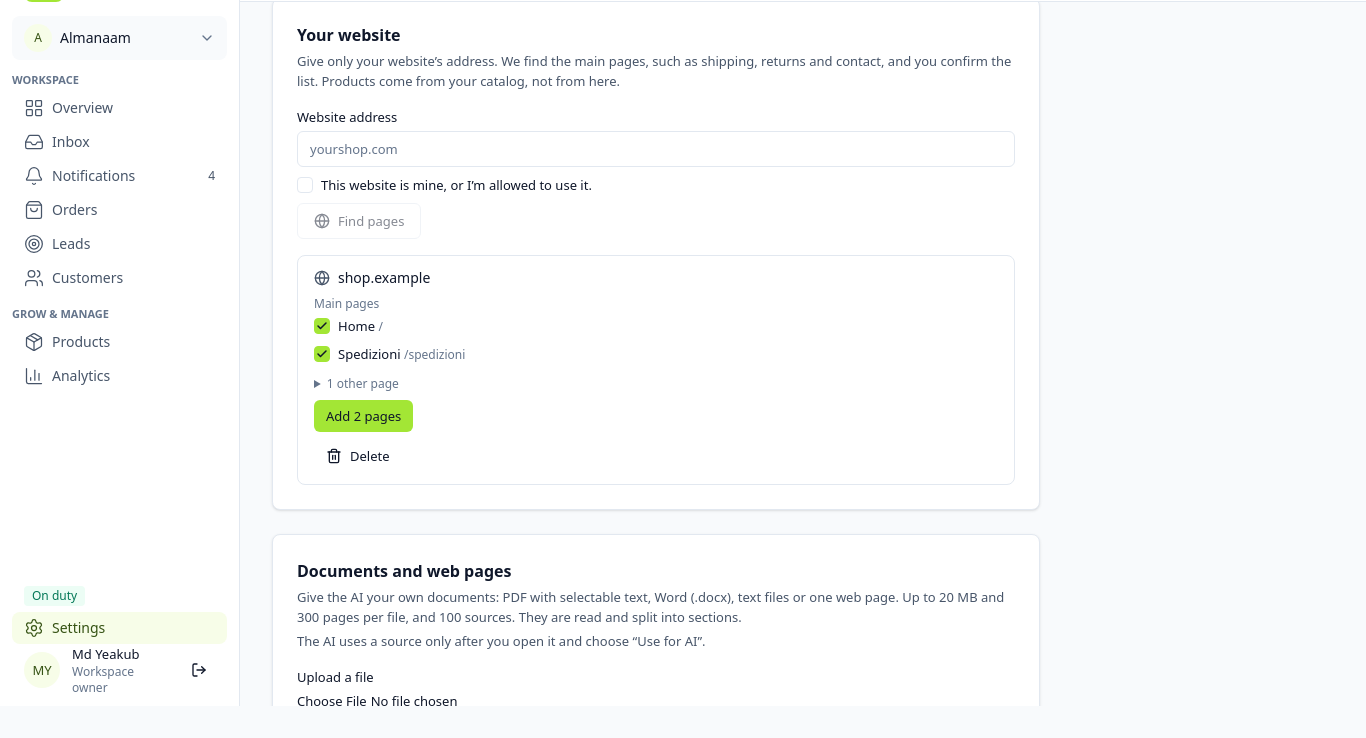
Settings → Shop knowledge → Website › shows the main pages ticked and adds what is ticked; other pages stay unticked
This screenshot has width=1366, height=738.
(page scrolled)
Expected: the checkbox named "Home" next to "Home" is checked, 314,318 -> 330,334
Click the checkbox named "Spedizioni" in the row of "/spedizioni" at [322, 354], box 314,346 -> 330,362
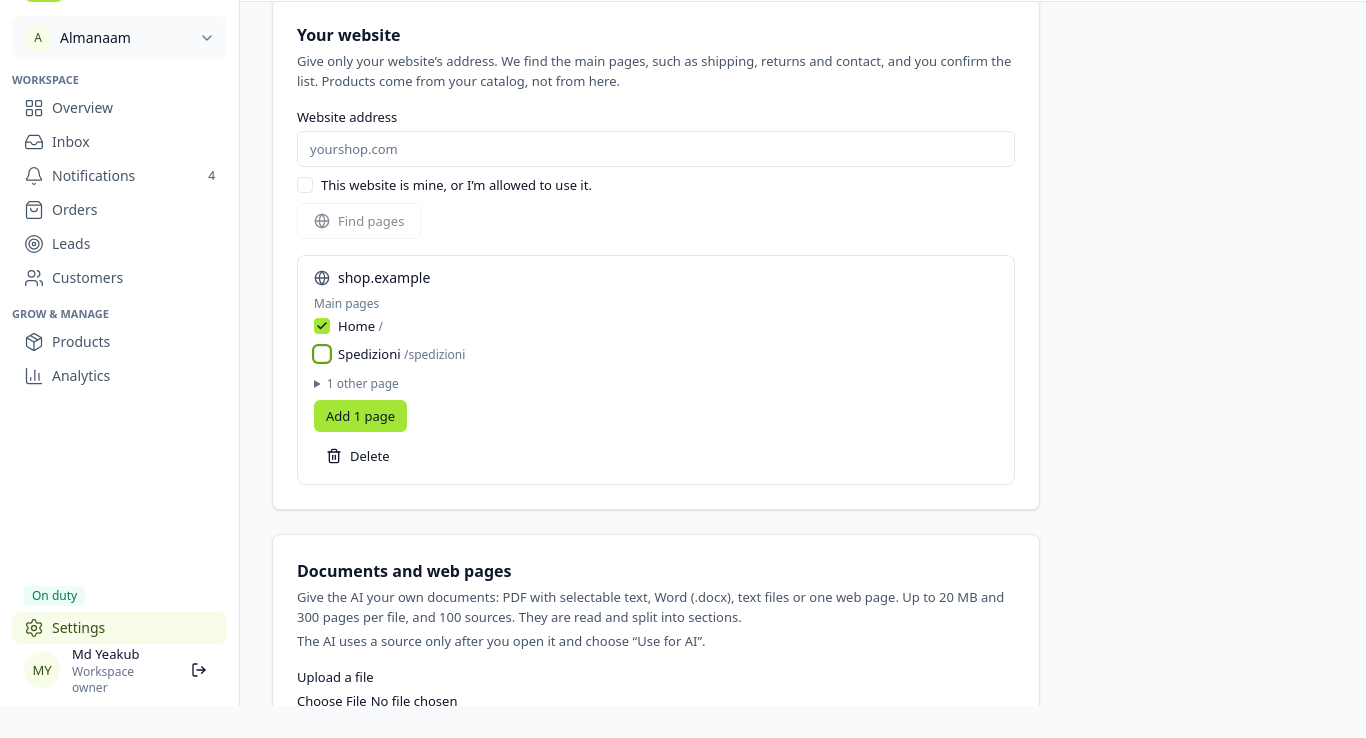
Click the button "Add 1 page" at [361, 416], box 314,400 -> 407,432
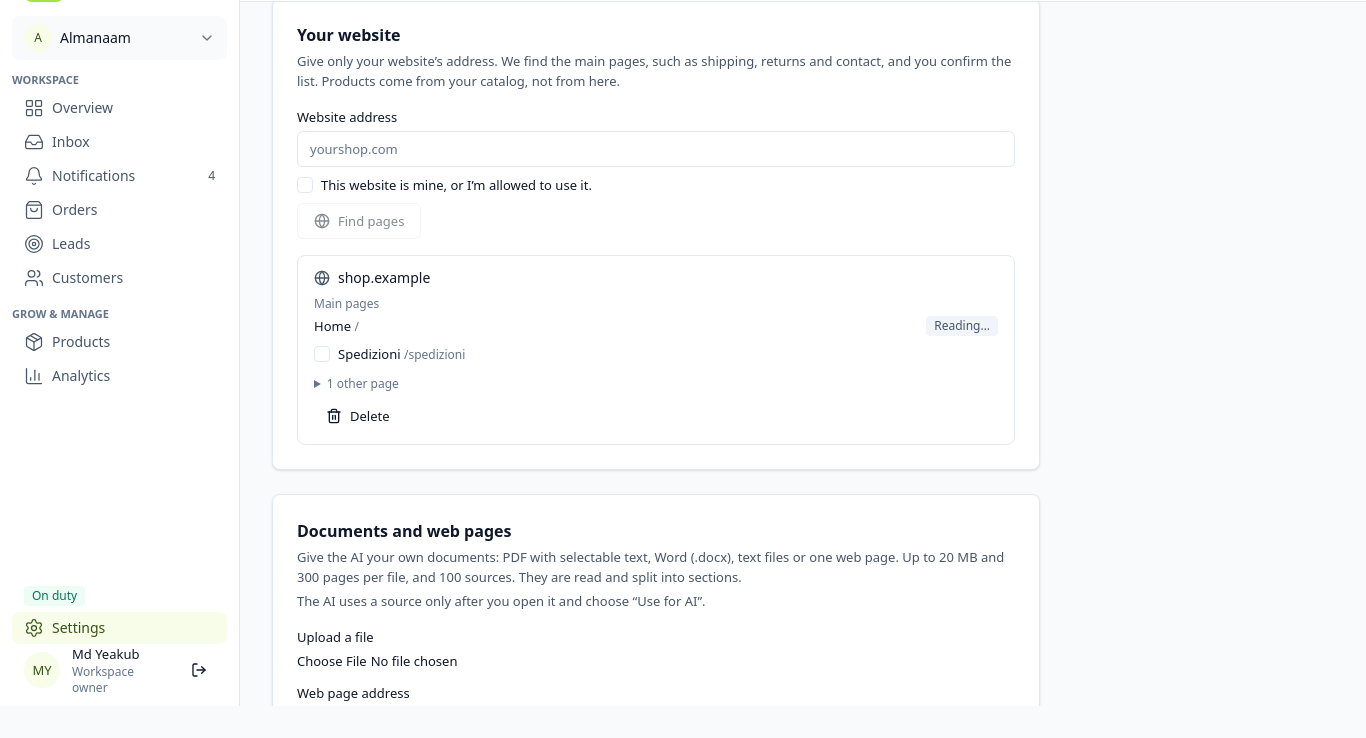
Expected: the text "Reading…" is shown, 926,316 -> 998,336
